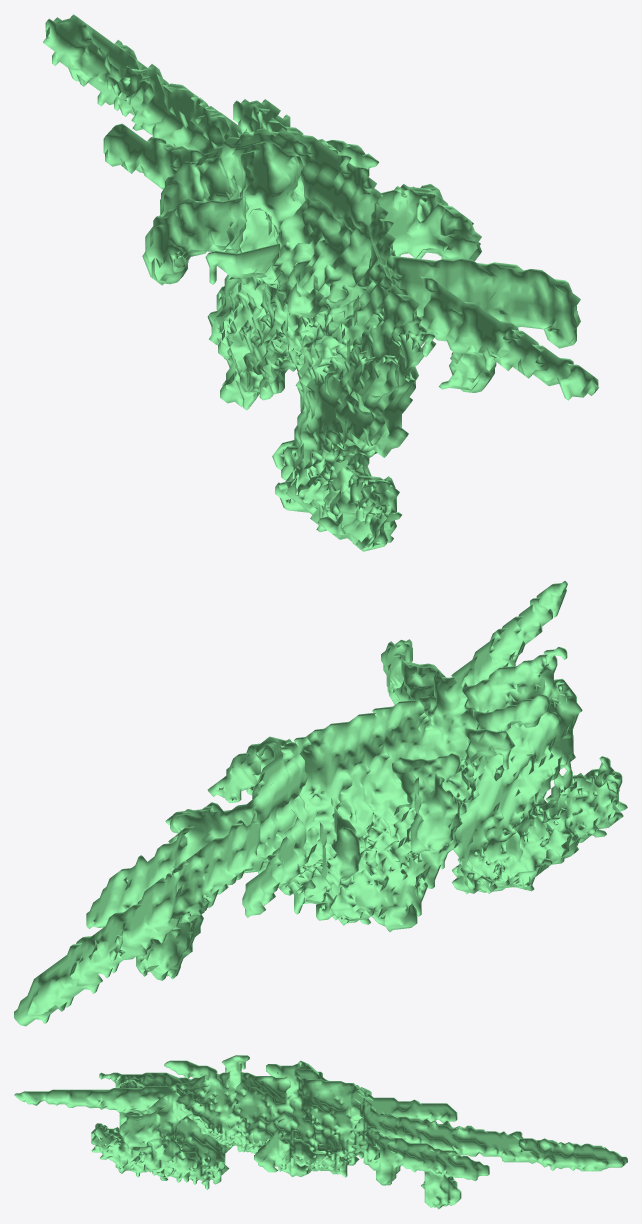
Rendered from osteocyte_84.glb.
3 views of the same model, one above another, from view 1: azimuth 30°, elevation 25°; view 2: azimuth 150°, elevation 25°; view 3: azimuth 270°, elevation 25° (orthographic). The views are drawn at different scales.
Visible parts, largest first — view 1: osteocyte_84; view 2: osteocyte_84; view 3: osteocyte_84.
Boxes of the visible parts, x1,y1,x2,y2 form: osteocyte_84: (43, 14, 598, 551); osteocyte_84: (14, 581, 627, 1026); osteocyte_84: (14, 1055, 627, 1209).
Bounding box in the file's own units: 21.18 × 14.93 × 72.7.
